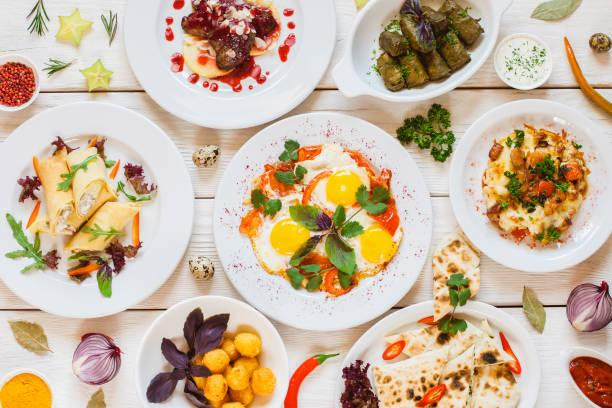Braised Crucian Carp: (211, 111, 425, 334), (2, 100, 195, 319), (448, 98, 612, 273), (125, 1, 333, 132), (338, 301, 541, 406), (330, 1, 510, 104), (134, 296, 284, 406)
